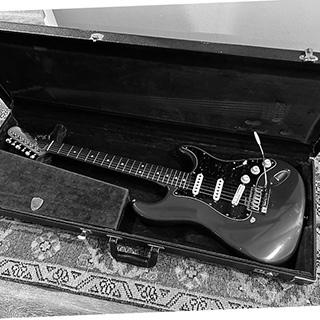Fender Stratocaster: (4, 117, 310, 270)
SSS: (192, 172, 247, 209)
